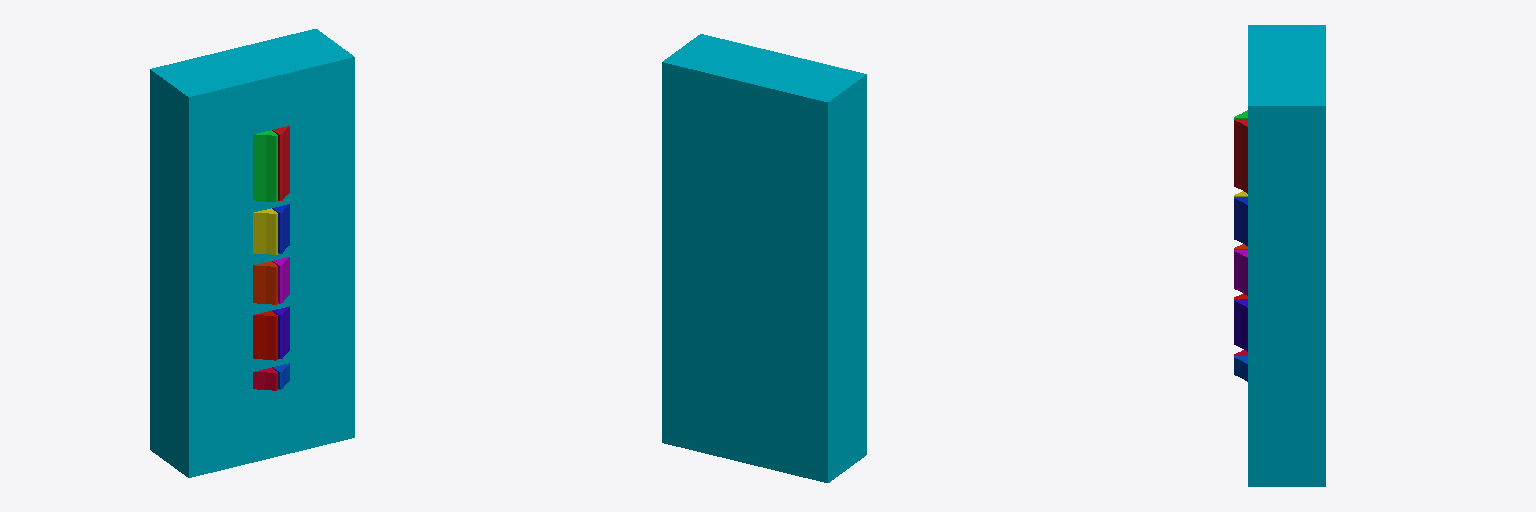
The model's file is PhantomCollision_Cube_018.OBJ.
3 views of the same model, side by side, from view 1: azimuth 30°, elevation 25°; view 2: azimuth 150°, elevation 25°; view 3: azimuth 270°, elevation 25° (orthographic).
Parts seen in each view (by area): view 1: PhantomCollision_Cube_018_PhantomCollision_Cube.018; view 2: PhantomCollision_Cube_018_PhantomCollision_Cube.018; view 3: PhantomCollision_Cube_018_PhantomCollision_Cube.018.
Boxes of the visible parts, box(x1,y1,x2,y2) form: PhantomCollision_Cube_018_PhantomCollision_Cube.018: box(150, 29, 354, 477); PhantomCollision_Cube_018_PhantomCollision_Cube.018: box(662, 34, 866, 482); PhantomCollision_Cube_018_PhantomCollision_Cube.018: box(1234, 25, 1325, 486).
Bounding box in the file's own units: 0.0804 × 0.1761 × 0.0384.